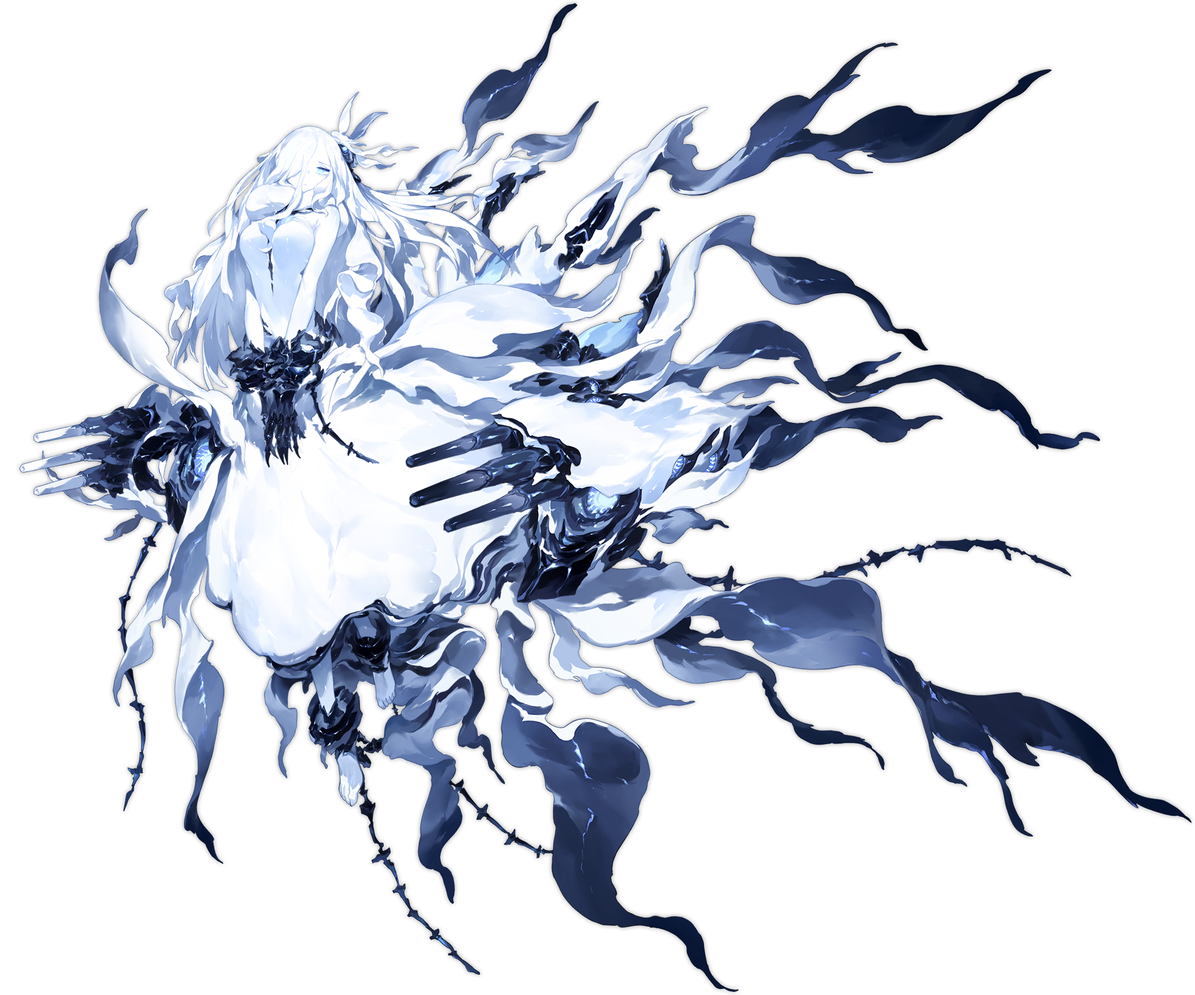person: (60, 91, 544, 892)
